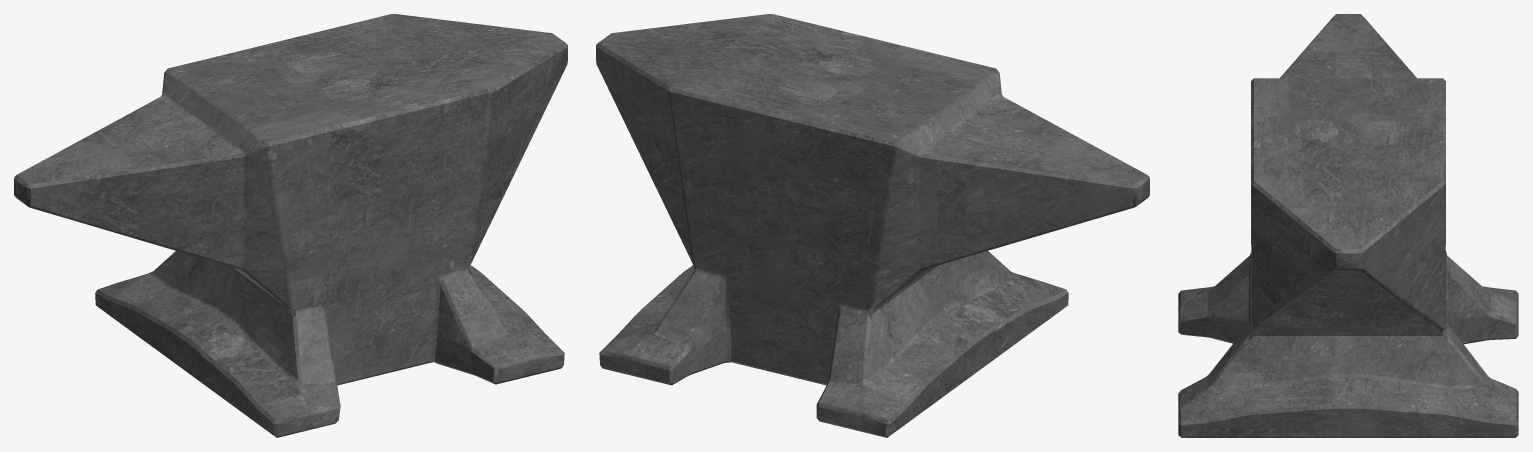
Rendered from amboss.fbx.
3 renders of one model, left to right at view 1: azimuth 30°, elevation 25°; view 2: azimuth 150°, elevation 25°; view 3: azimuth 270°, elevation 25°, orthographic. The views are drawn at different scales.
Visible parts, largest first — view 1: amboss; view 2: amboss; view 3: amboss.
Boxes of the visible parts, x1,y1,x2,y2 form: amboss: [14, 14, 567, 437]; amboss: [596, 14, 1149, 437]; amboss: [1178, 14, 1518, 437].
Bounding box in the file's own units: 3.01 × 1.38 × 1.74.
Materials: 1 (1 with a texture image).
